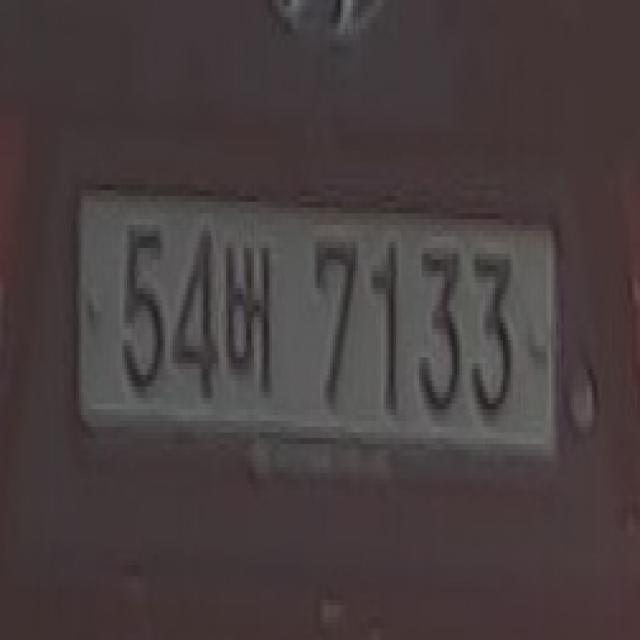1: (363, 202, 412, 426)
3: (416, 202, 475, 444), (460, 242, 520, 421)
4: (173, 208, 218, 404)
5: (122, 202, 173, 392)
7: (307, 213, 363, 404)
beo: (218, 231, 280, 392)
license_plate: (63, 167, 574, 502)
